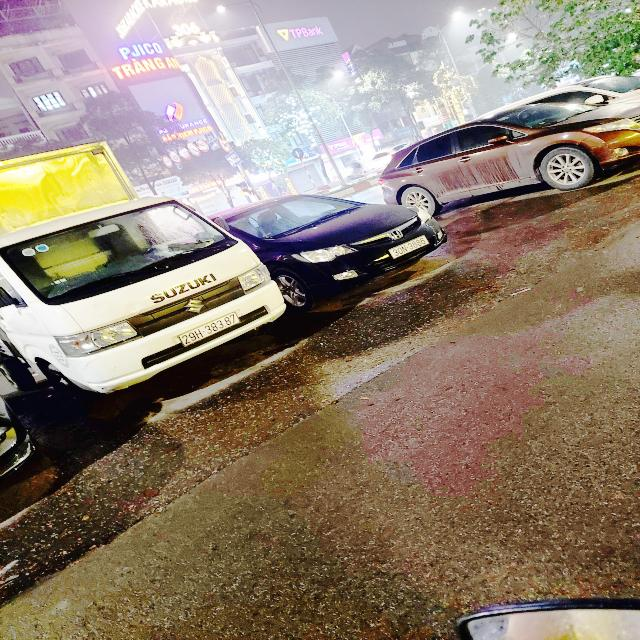license_plate: (179, 310, 245, 348), (390, 235, 433, 260)
